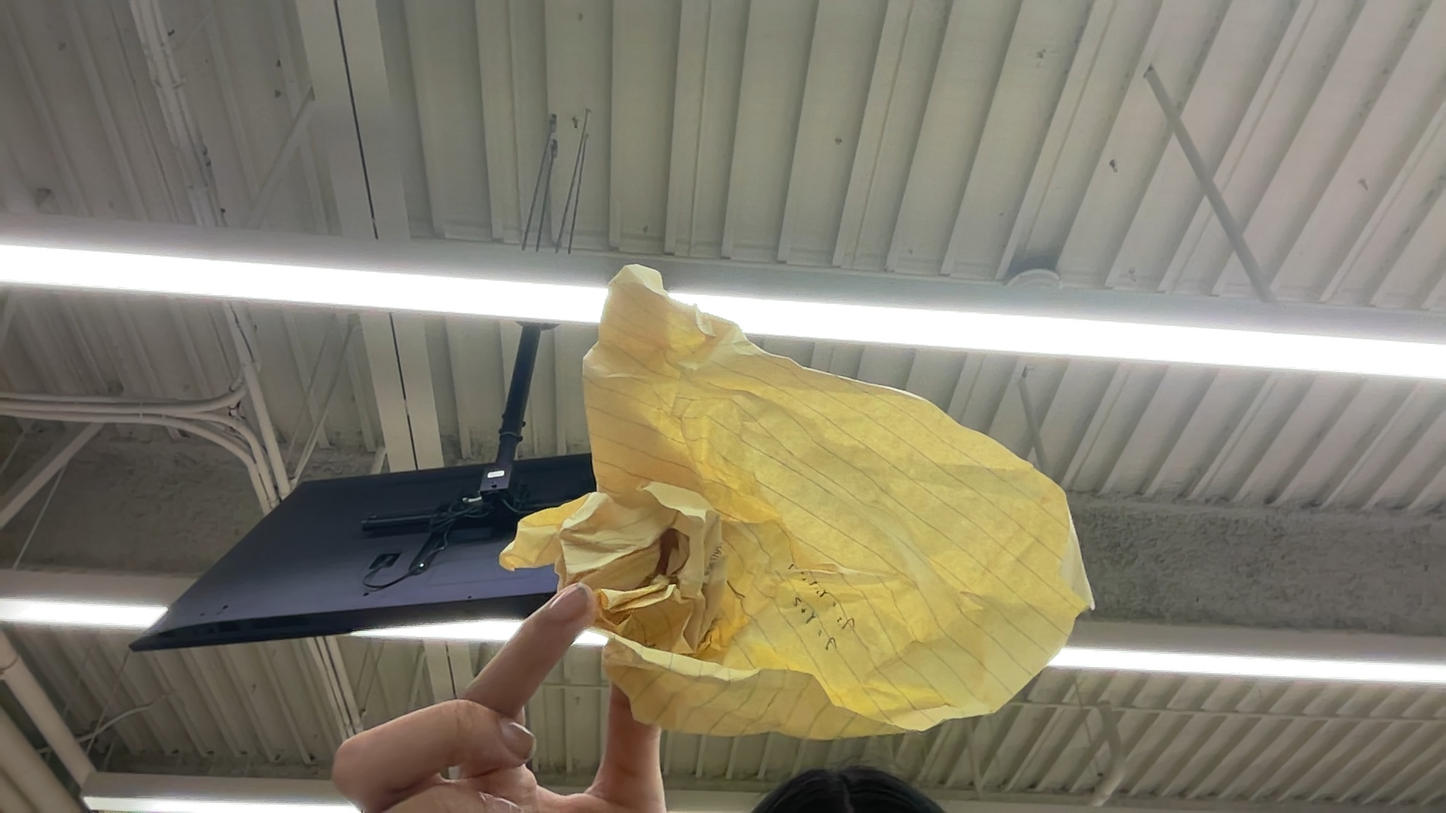Paper: (521, 274, 1118, 742)
